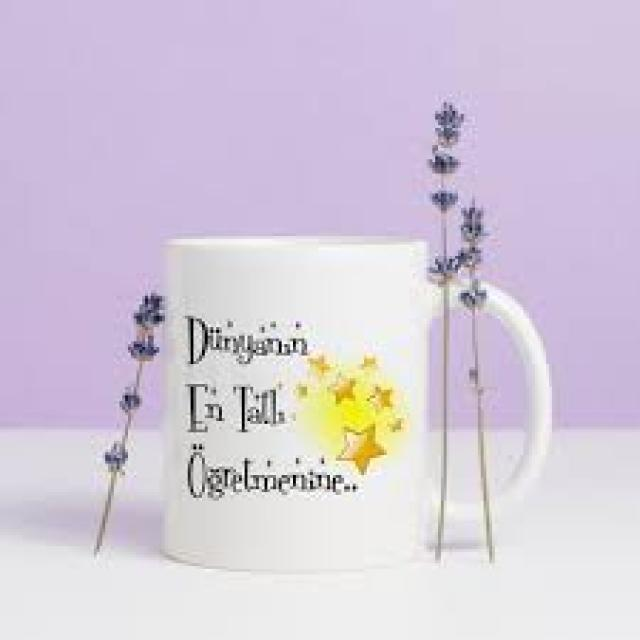taza: (167, 235, 552, 572)
